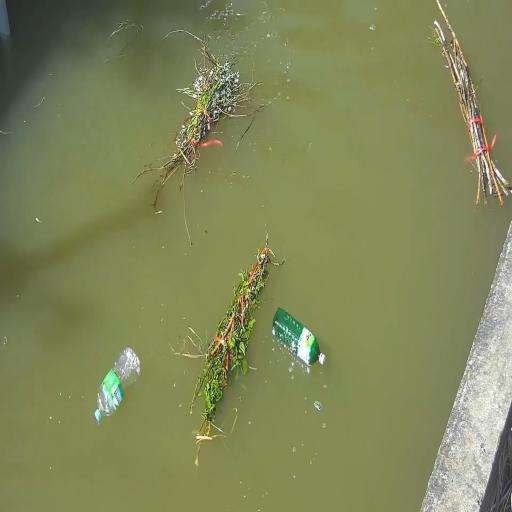plastic: (265, 302, 326, 377), (86, 345, 141, 426)
twig: (184, 246, 266, 424), (434, 10, 510, 201), (166, 57, 233, 181)
